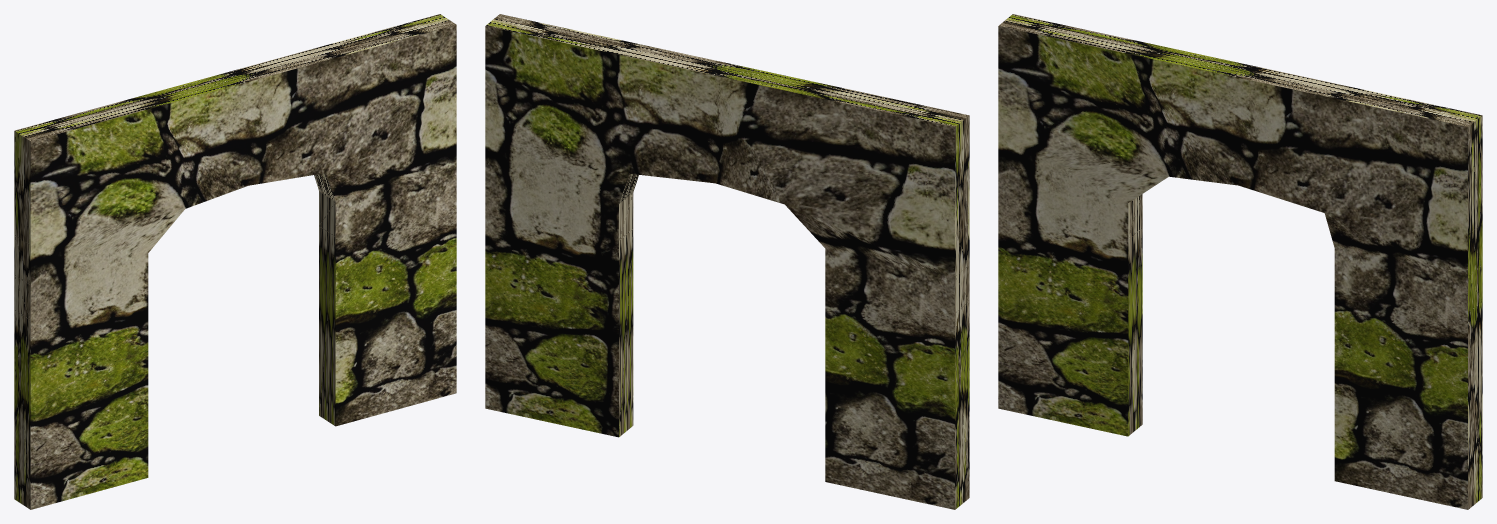
File: sewerWall.fbx
The picture shows the model from 3 angles, left to right: view 1: azimuth 30°, elevation 25°; view 2: azimuth 150°, elevation 25°; view 3: azimuth 330°, elevation 25°; orthographic projection. The views are drawn at different scales.
Parts seen in each view (by area): view 1: Cube.009; view 2: Cube.009; view 3: Cube.009.
Boxes of the visible parts, bbox=[...] form: Cube.009: bbox=[14, 14, 456, 509]; Cube.009: bbox=[485, 14, 969, 509]; Cube.009: bbox=[998, 14, 1482, 509].
Size of the model in its own units: 408 by 326 by 45.35.
